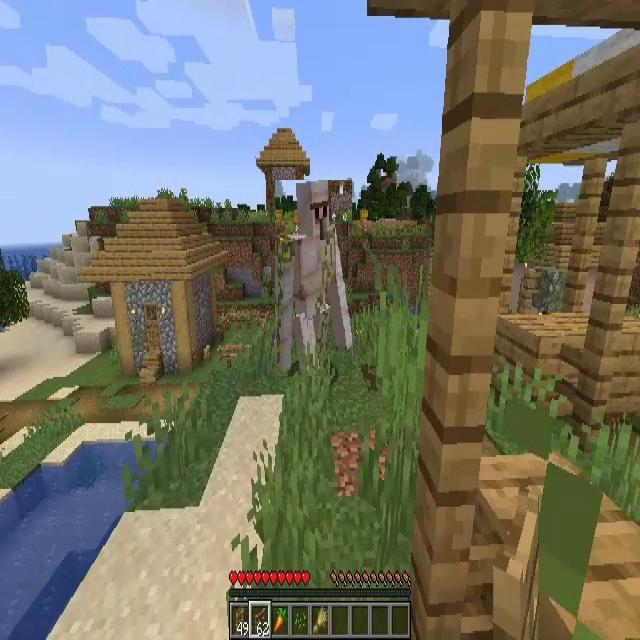people: (275, 180, 352, 376)
